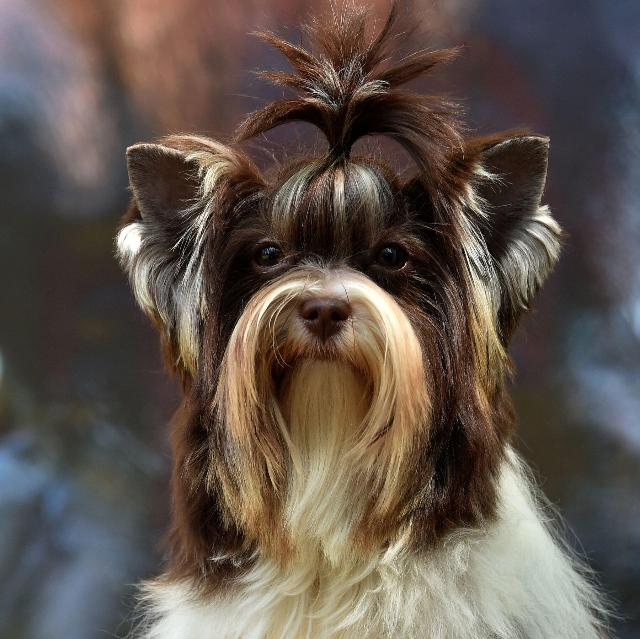dog: (120, 141, 558, 633)
